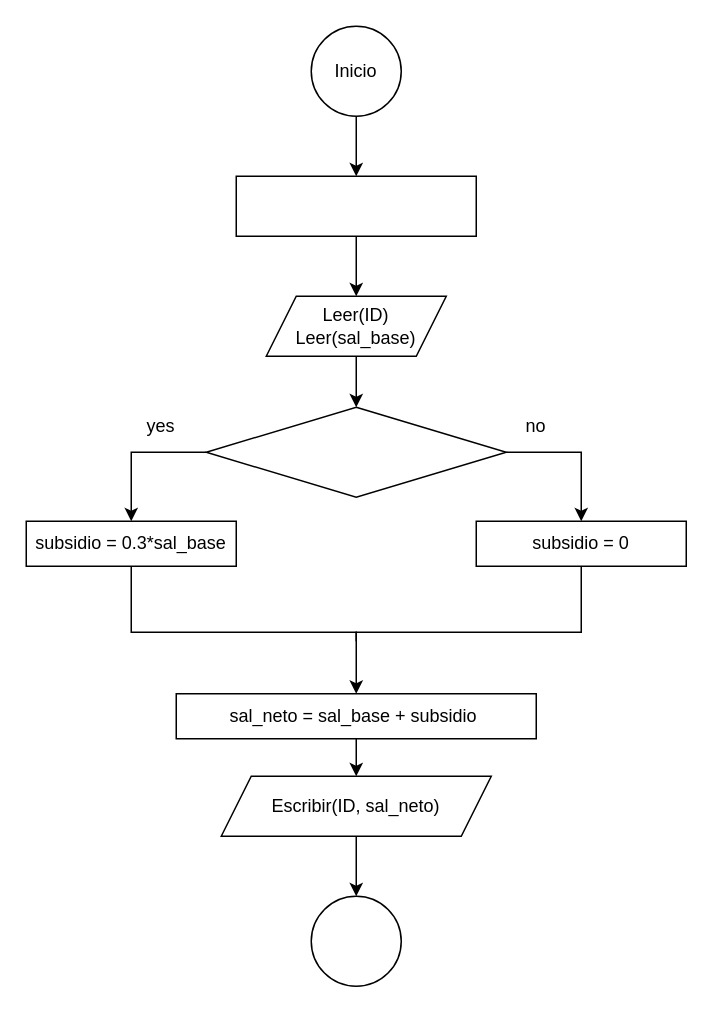
Some shapes in this 713 by 1013 pixel diagram are drawn without their labels. Each missing label, with the centre of its shape:
Fin: [355,940]
sal_base < SALARIO_MIN: [355,451]
SALARIO_MIN = 2000000: [355,205]
